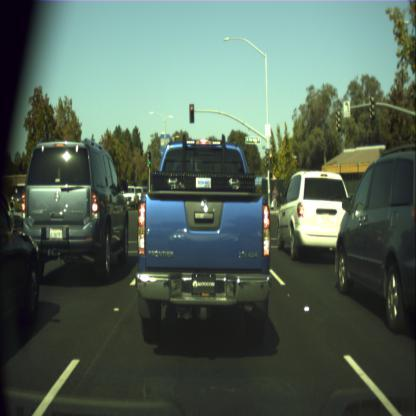Green: (147, 150, 151, 166)
Red: (269, 152, 272, 164)
Yellow: (188, 103, 194, 122)
